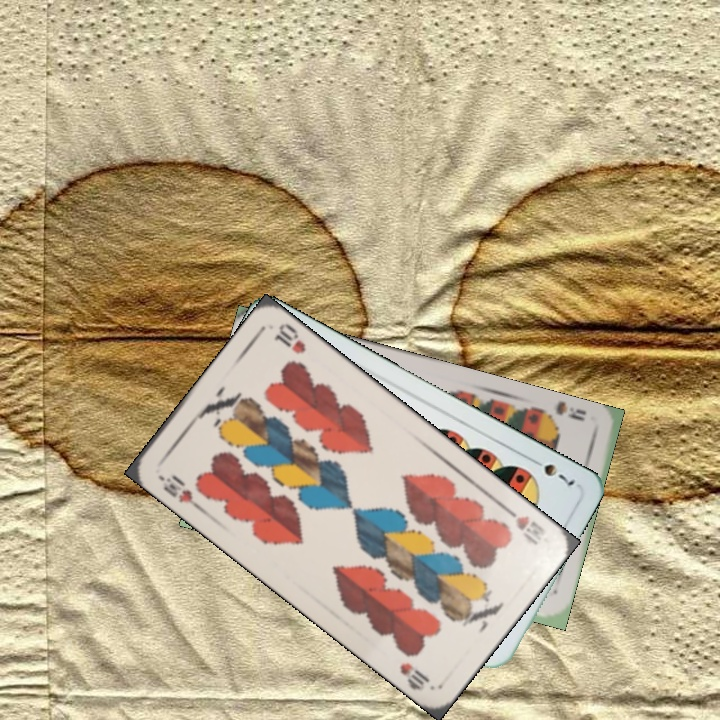H10: (498, 501, 548, 548), (154, 470, 204, 513)
S7: (525, 453, 578, 489)
S9: (536, 399, 589, 427)
